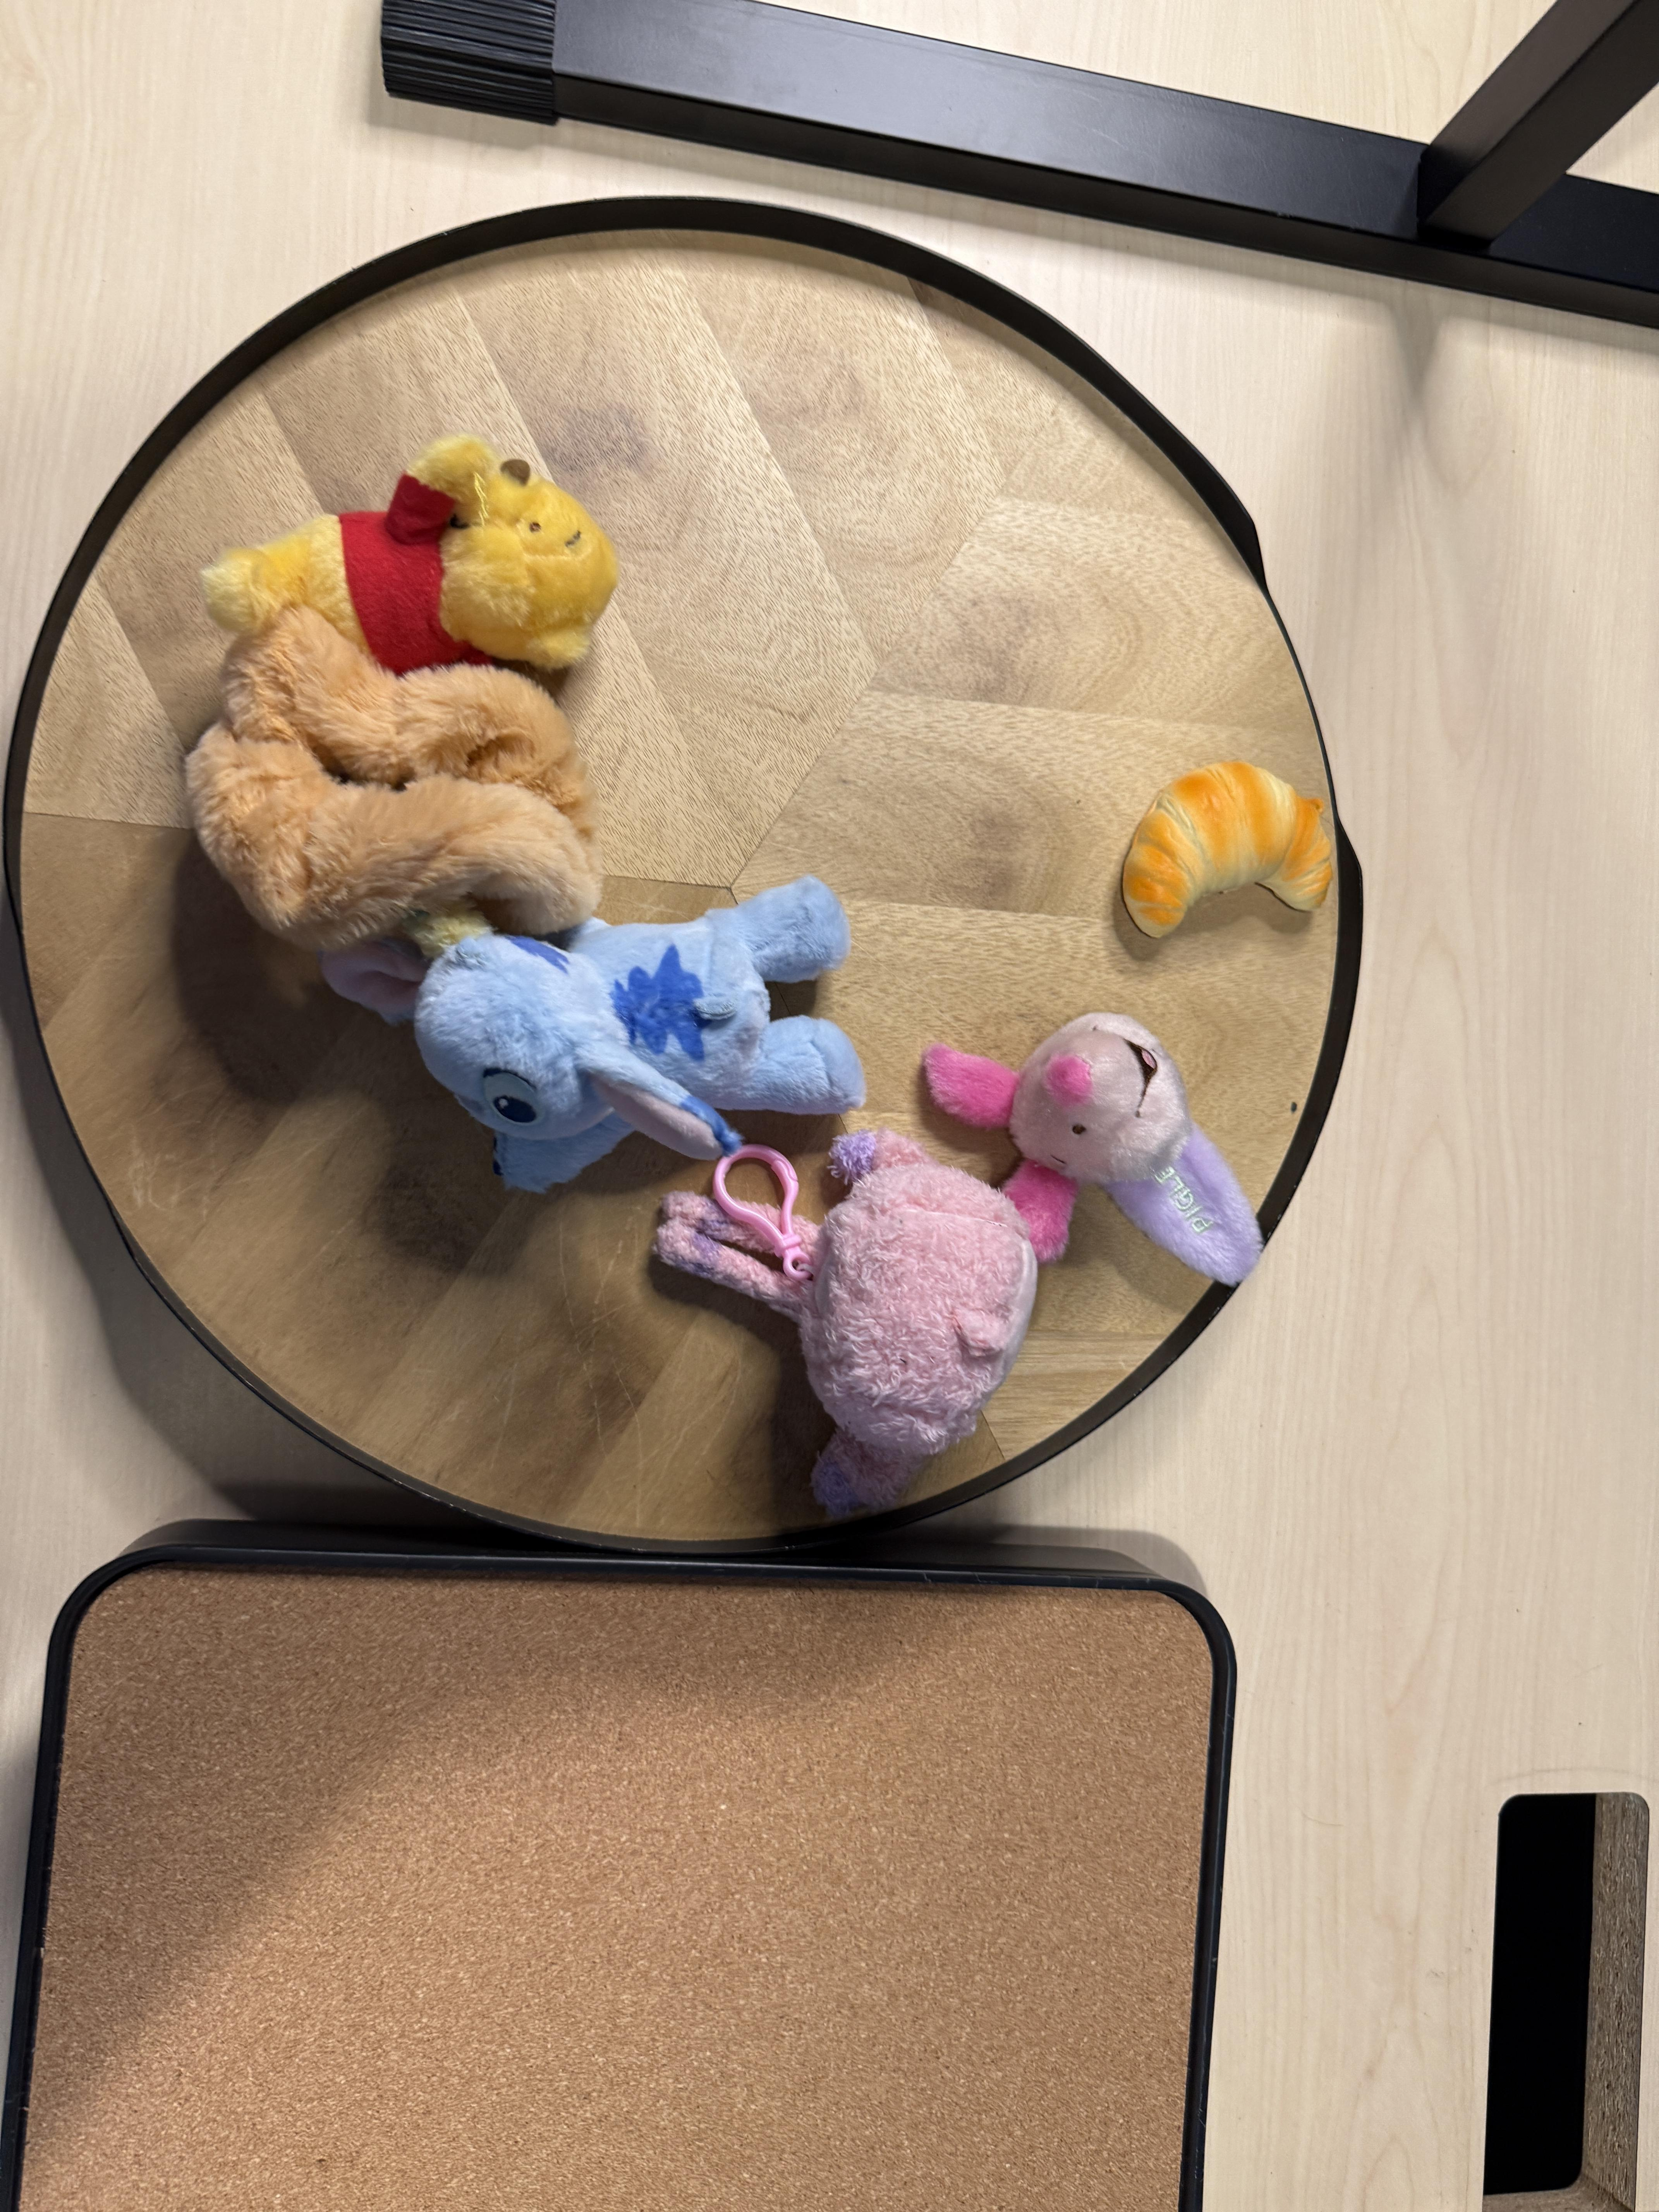bread: (1127, 756, 1340, 942)
doll: (193, 449, 608, 934), (650, 1127, 1053, 1521), (345, 871, 871, 1163), (925, 1003, 1267, 1282)
